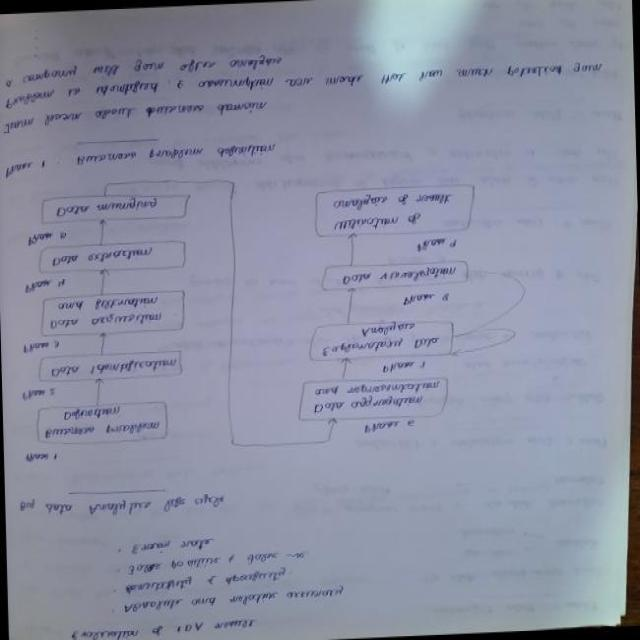Figure Detection - v3 Dataset Version2: (1, 154, 544, 480)
